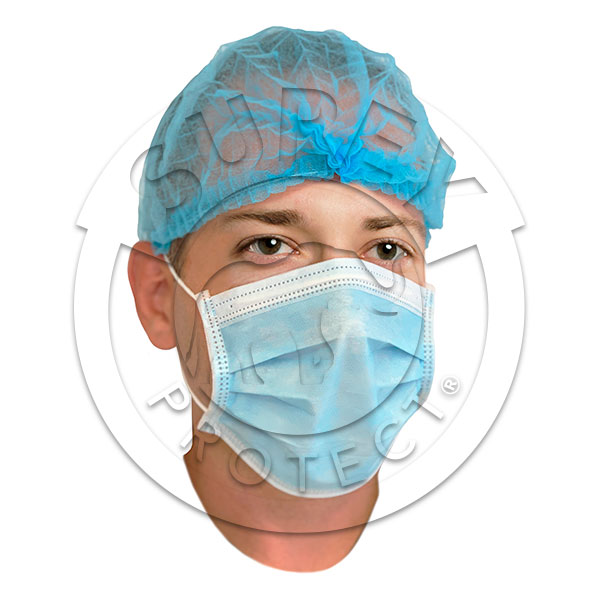with_mask_and_cap: (140, 31, 436, 497)
